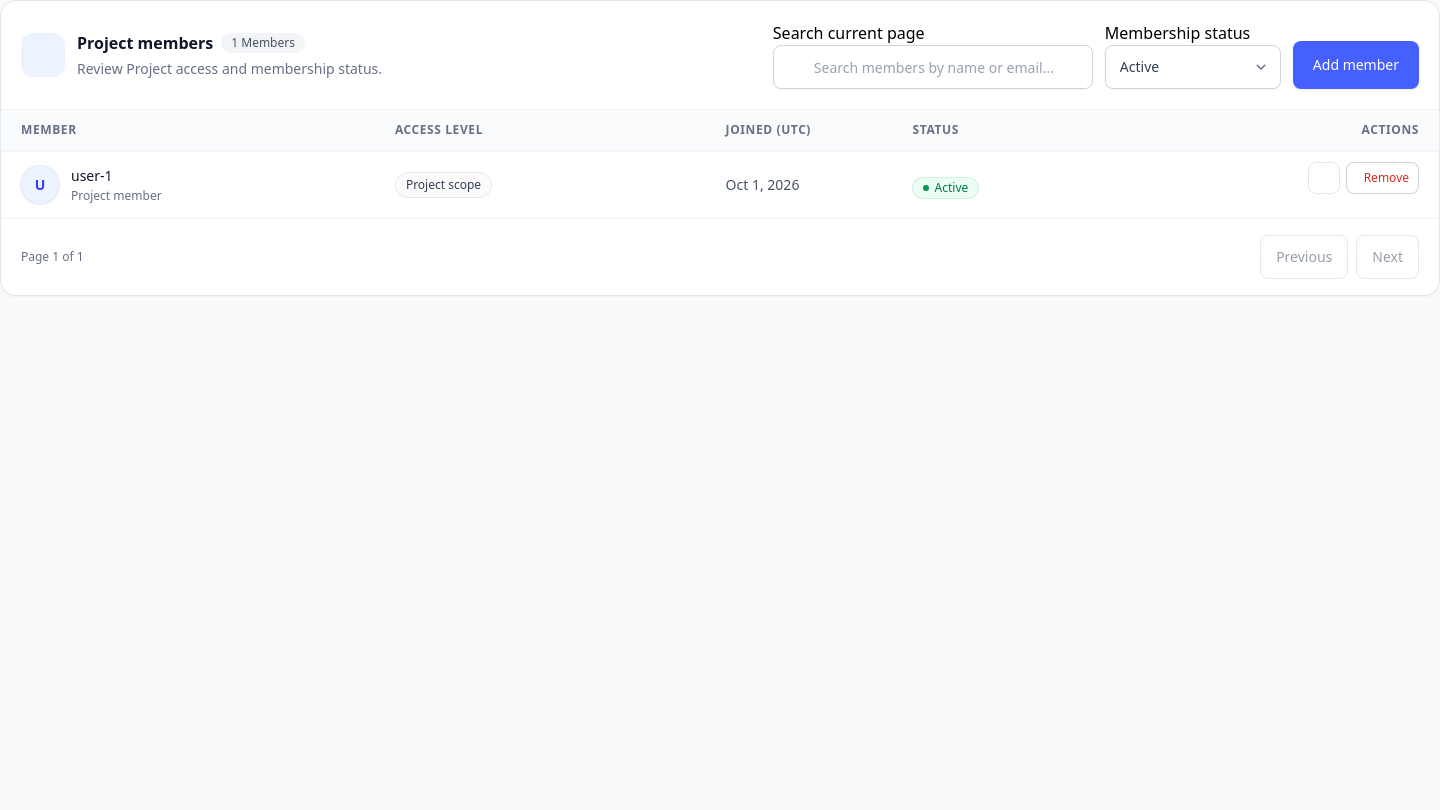
requires confirmation, removes by membership ID and handles 204
Click the button "Remove": x=1382, y=178 left=1346, top=162, right=1419, bottom=194
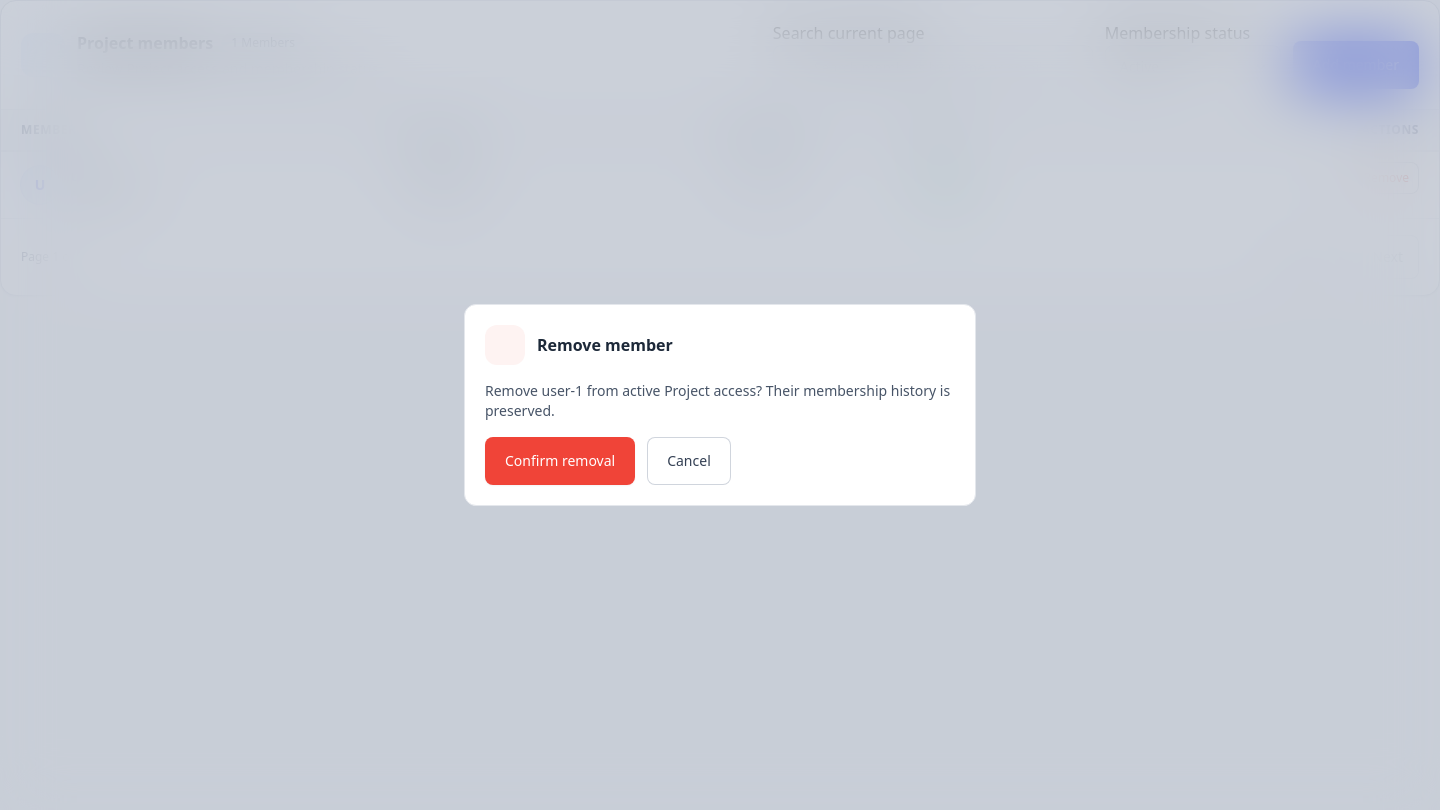
Click the button "Cancel": x=689, y=461 left=647, top=437, right=731, bottom=485
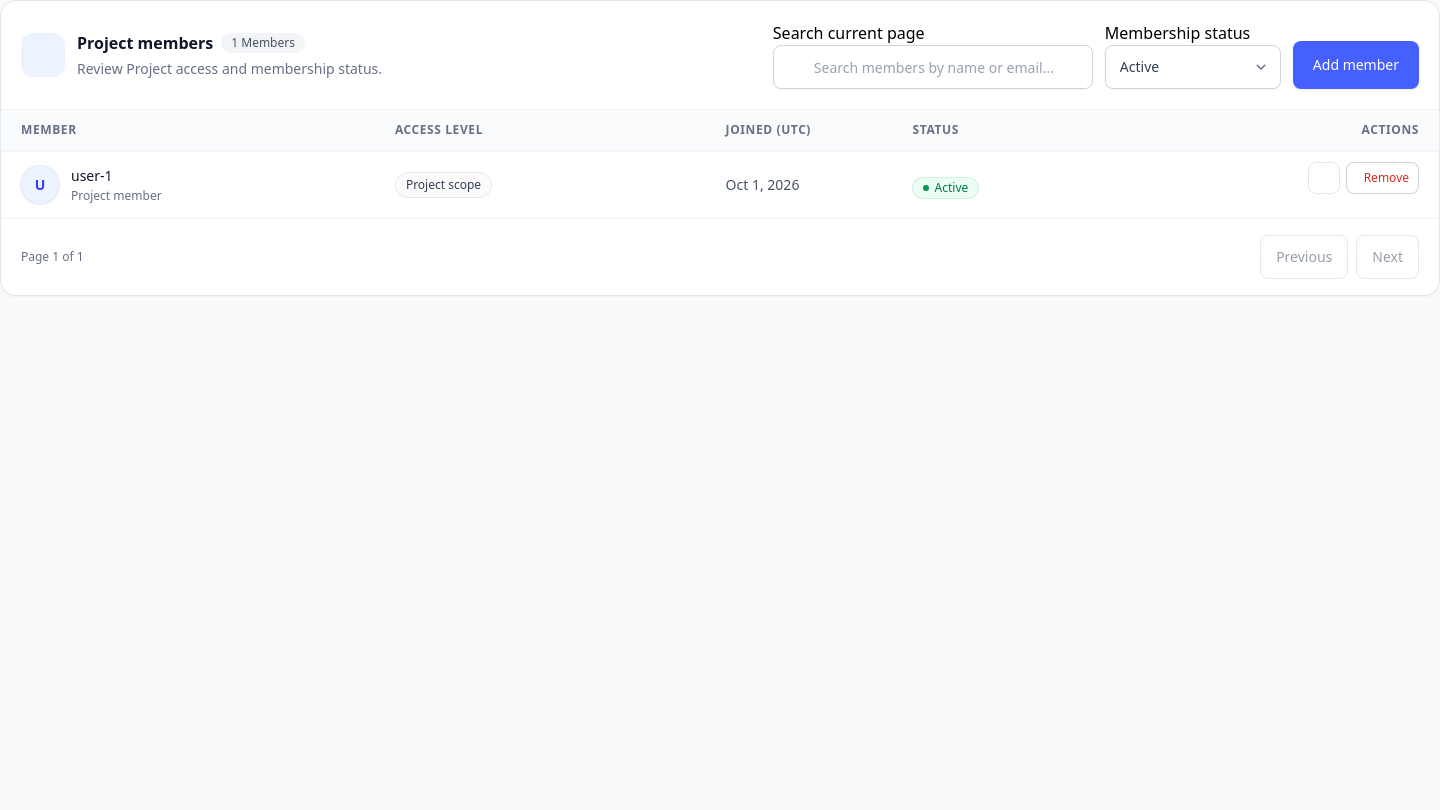
Result: the button "Confirm removal" is gone
Click the button "Remove": x=1382, y=178 left=1346, top=162, right=1419, bottom=194
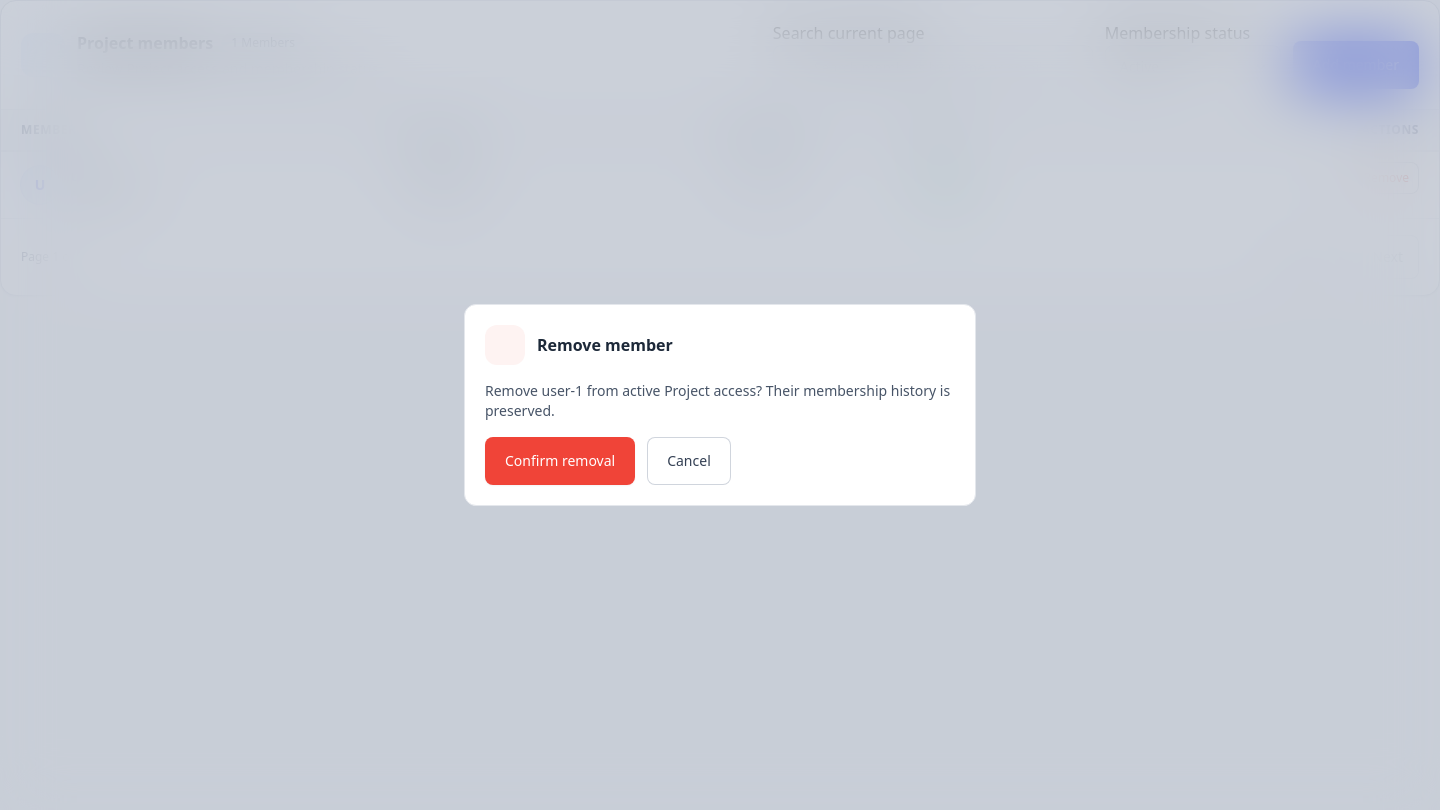
Click the button "Confirm removal": x=560, y=461 left=485, top=437, right=635, bottom=485
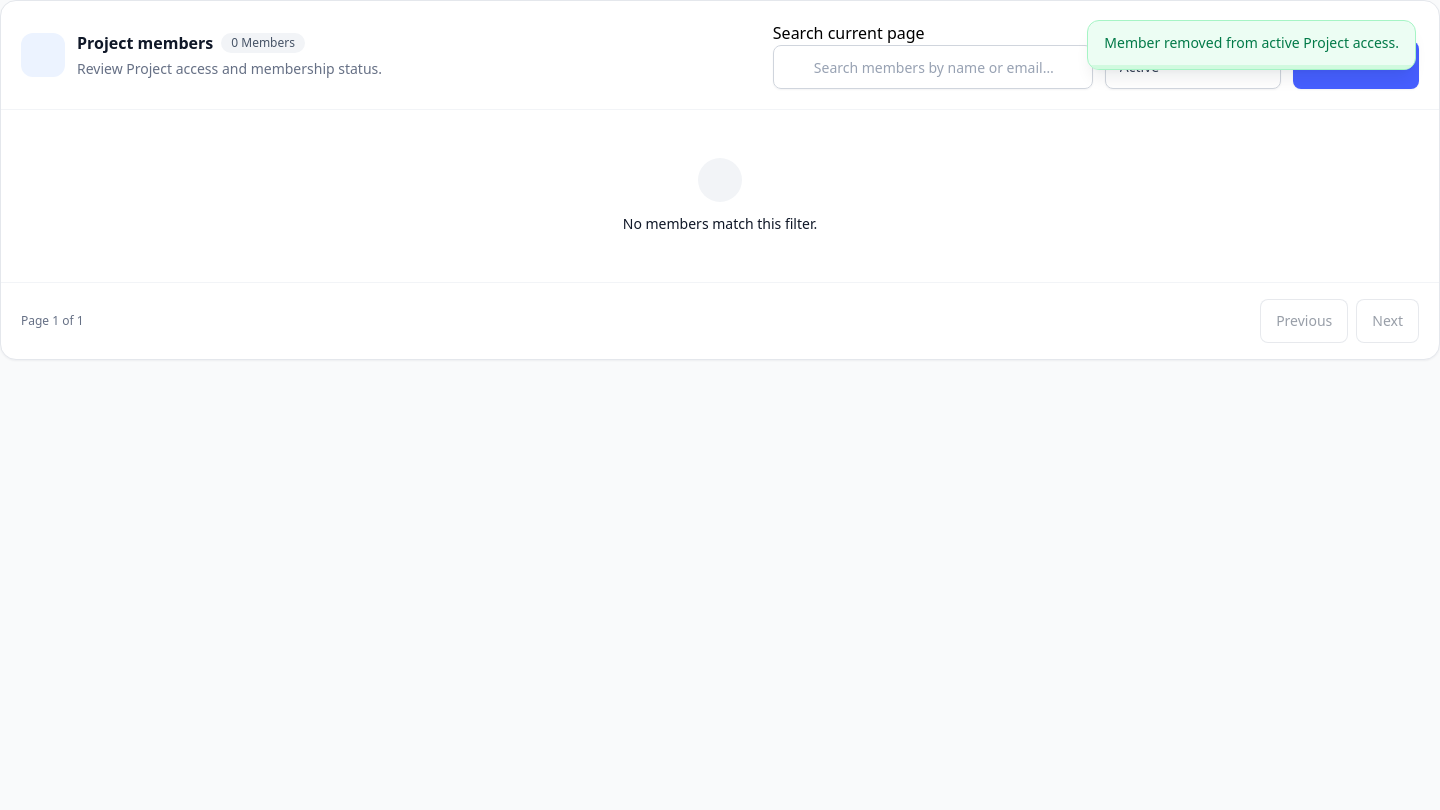
Result: the text "Member removed from active Project access." is shown at left=1104, top=33, right=1399, bottom=52
Result: the text "No members match this filter." is shown at left=623, top=214, right=817, bottom=234
